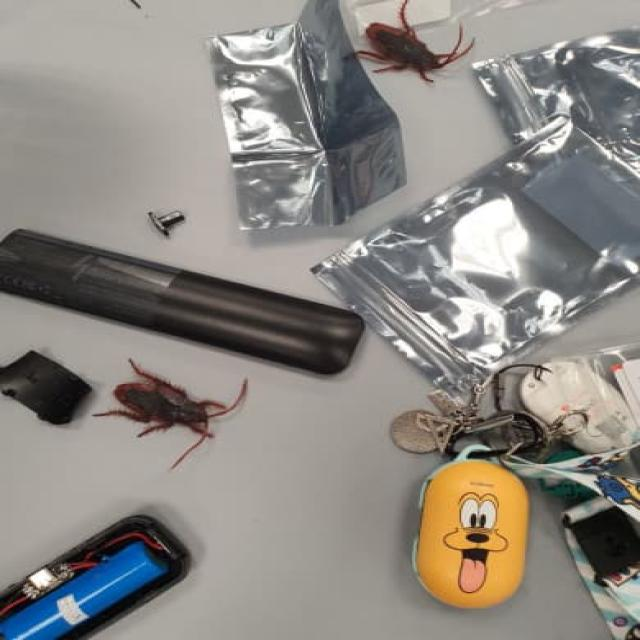Cockroach: (84, 350, 246, 470), (344, 0, 478, 86)
